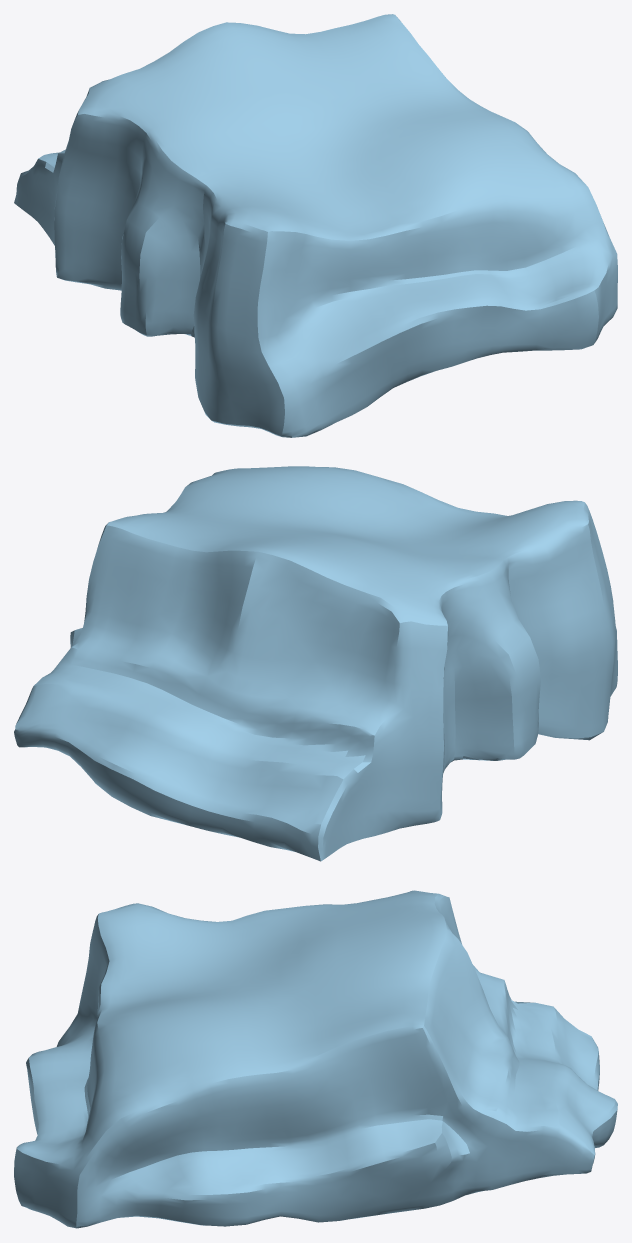
The model's file is Land4.fbx.
3 renders of one model, top to bottom at view 1: azimuth 30°, elevation 25°; view 2: azimuth 150°, elevation 25°; view 3: azimuth 270°, elevation 25°, orthographic. The views are drawn at different scales.
Visible parts, largest first — view 1: Retopo_Iceburg 4.001; view 2: Retopo_Iceburg 4.001; view 3: Retopo_Iceburg 4.001.
Part boxes in pixels (x1,y1,x2,y2): Retopo_Iceburg 4.001: (14,14,617,437); Retopo_Iceburg 4.001: (14,466,617,861); Retopo_Iceburg 4.001: (14,890,617,1228).
Bounding box in the file's own units: 270 × 161 × 358.
